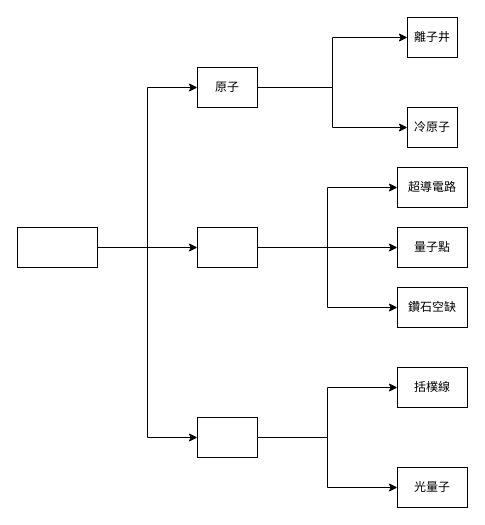
This 485x525 diagram has some shape labels left out. The shapes that lost their labels are listed below. From the top down, each one's centre as x and y in pixels, then its label:
At (57,247): "量子電腦技術".
At (227,247): "電子".
At (227,437): "光子".
